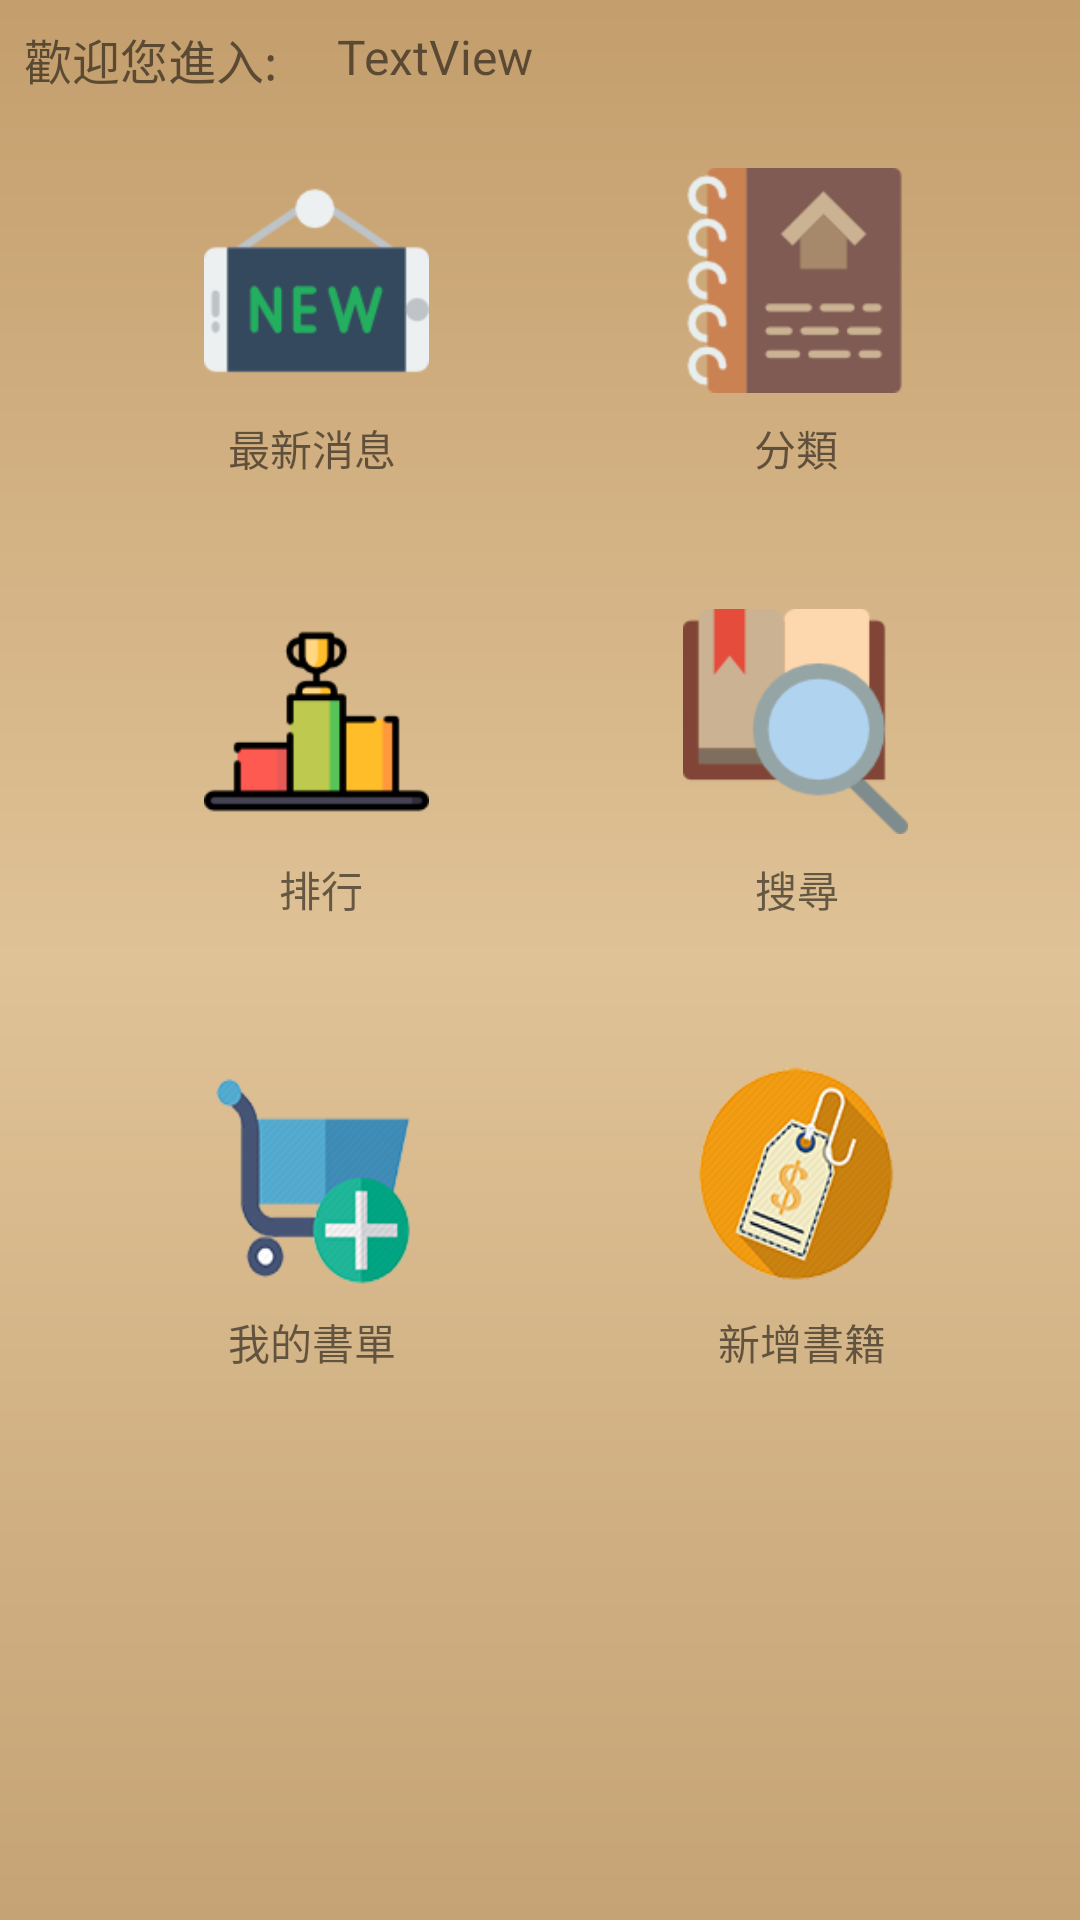

Icon click points for this 1080*1920 phone screenshot, format [x,y]:
buying: [313,1181]
sellimg: [796,1173]
